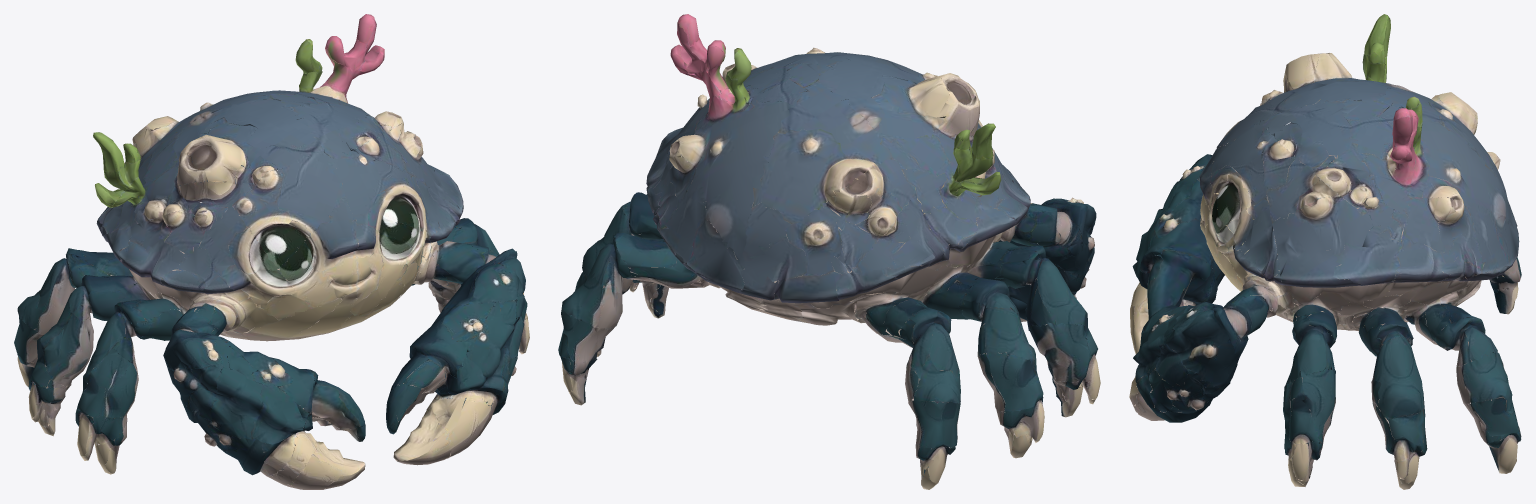
The picture shows the model from 3 angles, left to right: view 1: azimuth 30°, elevation 25°; view 2: azimuth 150°, elevation 25°; view 3: azimuth 270°, elevation 25°; orthographic projection. The views are drawn at different scales.
Visible parts, largest first — view 1: Mesh_0; view 2: Mesh_0; view 3: Mesh_0.
Part boxes in pixels (bbox=[...]): Mesh_0: bbox=[14, 14, 529, 489]; Mesh_0: bbox=[558, 14, 1100, 489]; Mesh_0: bbox=[1129, 14, 1521, 489].
Size of the model in its own units: 1.9 by 1.39 by 1.45.
Materials: 1 (1 with a texture image).
